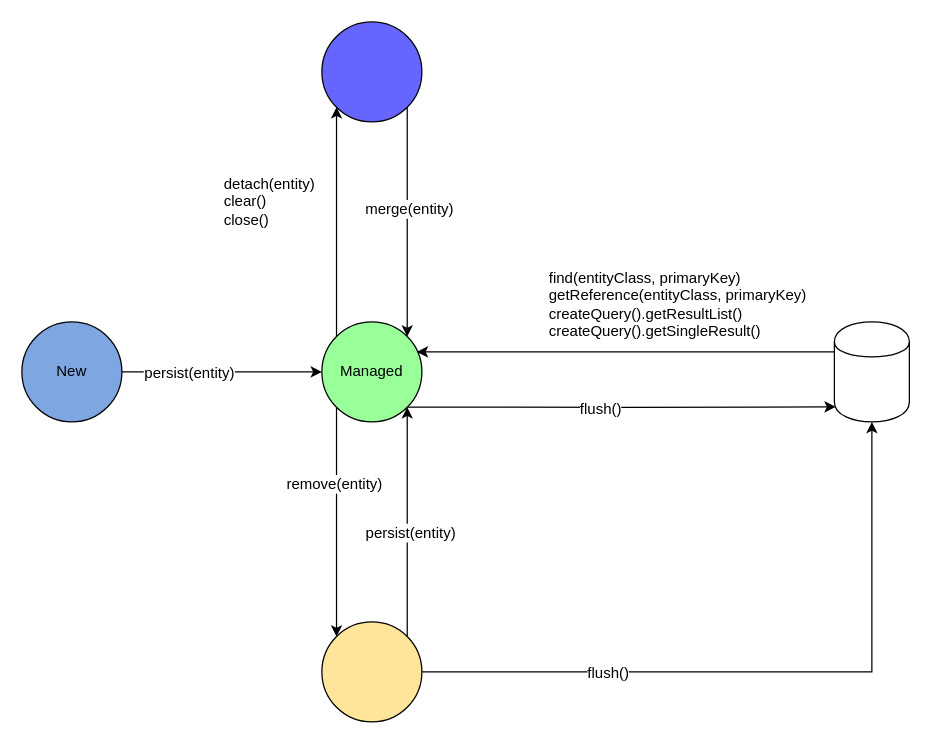
Image size: 931x744. Some labels were removed from this diagram. Here are the shapes that lost their labels. From the top down, the centre of each, then its label:
At (x=371, y=71): "Detached".
At (x=371, y=671): "Removed".
